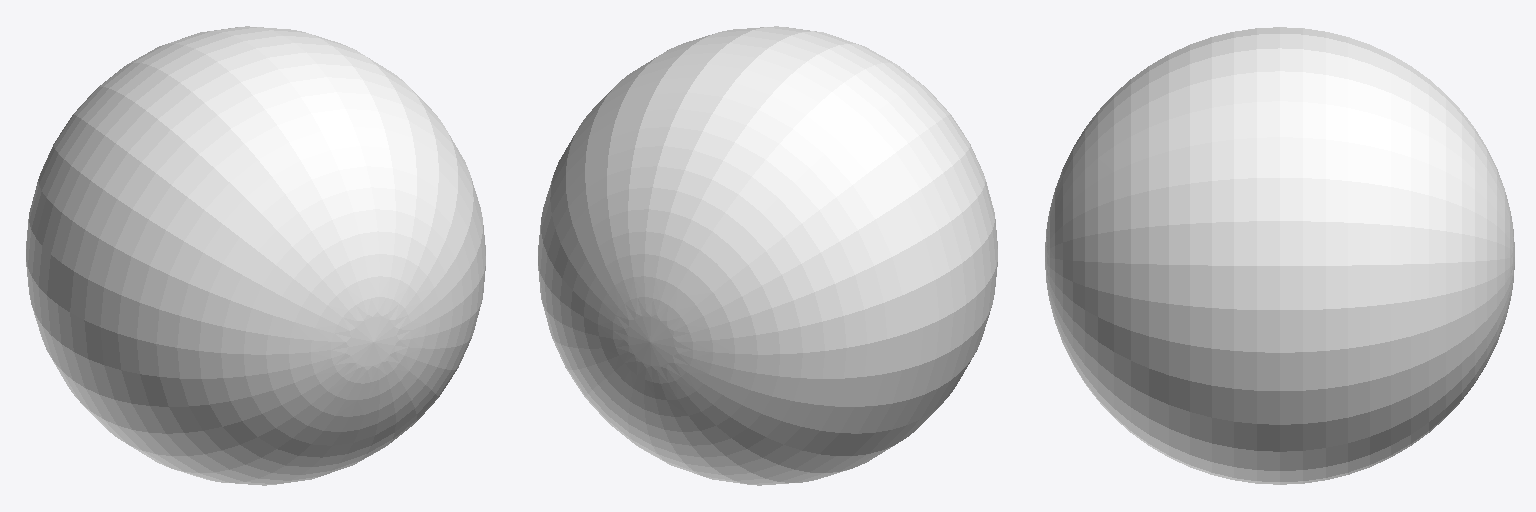
Rendered from SiuSphere.obj.
The picture shows the model from 3 angles: view 1: azimuth 30°, elevation 25°; view 2: azimuth 150°, elevation 25°; view 3: azimuth 270°, elevation 25°; orthographic projection.
Visible parts, largest first — view 1: Sphere; view 2: Sphere; view 3: Sphere.
Part boxes in pixels (bbox=[...]): Sphere: bbox=[26, 26, 485, 485]; Sphere: bbox=[538, 26, 997, 485]; Sphere: bbox=[1045, 27, 1514, 484].
Size of the model in its own units: 1.94 by 1.94 by 1.99.